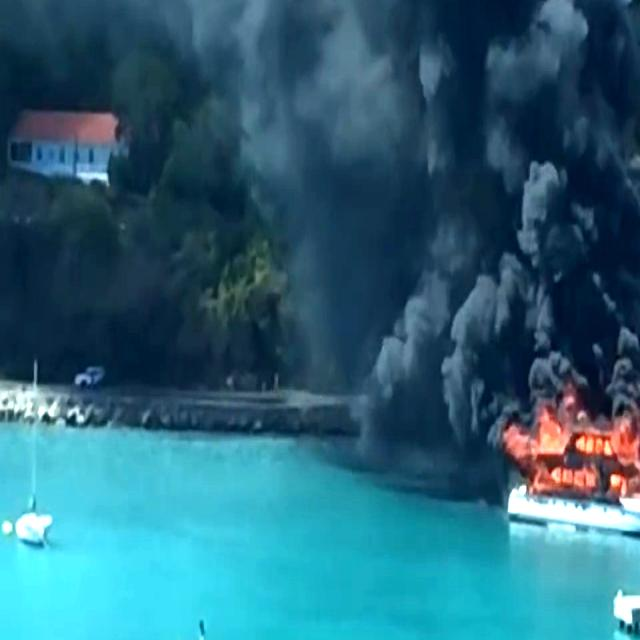fire: (523, 393, 640, 498)
smoke: (310, 0, 631, 356)
